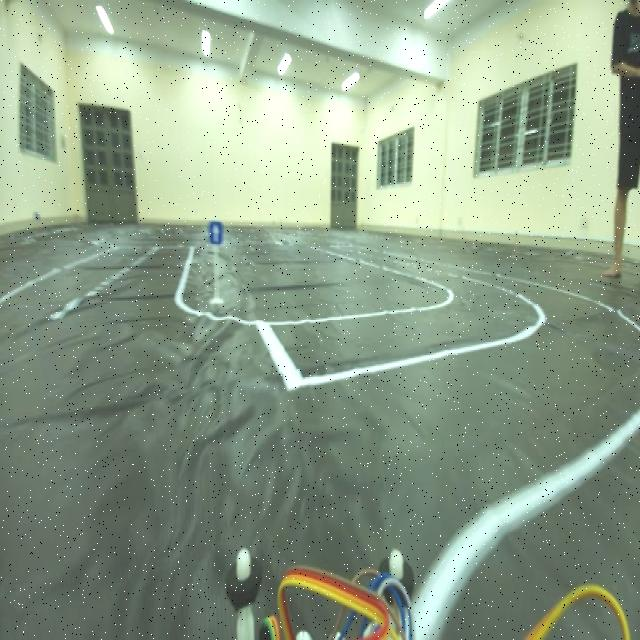onewayroad: (205, 217, 229, 252)
